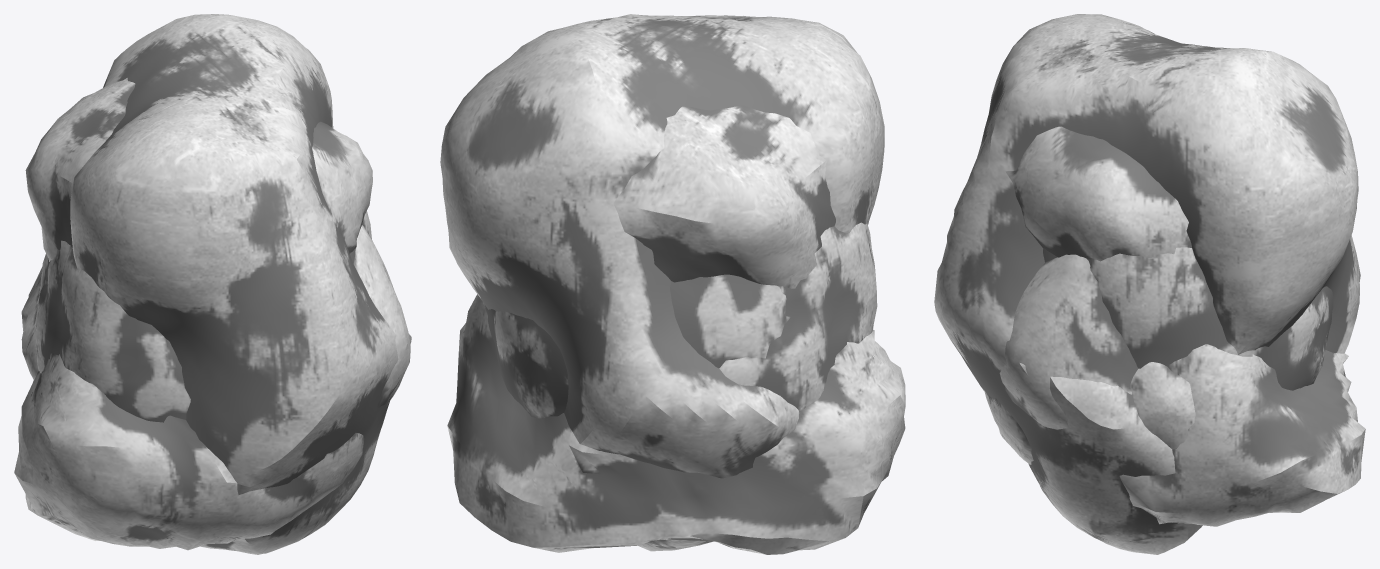
File: stones.fbx
3 views of the same model, side by side, from view 1: azimuth 30°, elevation 25°; view 2: azimuth 150°, elevation 25°; view 3: azimuth 270°, elevation 25° (orthographic). The views are drawn at different scales.
Parts seen in each view (by area): view 1: rock.003, rock.004, rock.002, rock; view 2: rock.003, rock.004, rock.001, rock.002; view 3: rock.003, rock.004, rock.001, rock, rock.002.
Part boxes in pixels (box(x1,y1,x2,y2)): rock.003: box(21, 14, 411, 554); rock.004: box(14, 78, 372, 550); rock.002: box(35, 240, 190, 422); rock: box(353, 225, 410, 408); rock.003: box(440, 14, 884, 551); rock.004: box(447, 105, 905, 554); rock.001: box(483, 274, 790, 418); rock.002: box(719, 222, 877, 412); rock.003: box(934, 14, 1360, 554); rock.004: box(983, 126, 1365, 526); rock.001: box(1043, 247, 1333, 390); rock: box(999, 254, 1138, 429); rock.002: box(1130, 362, 1195, 449).
Bounding box in the file's own units: 106 × 141 × 111.
